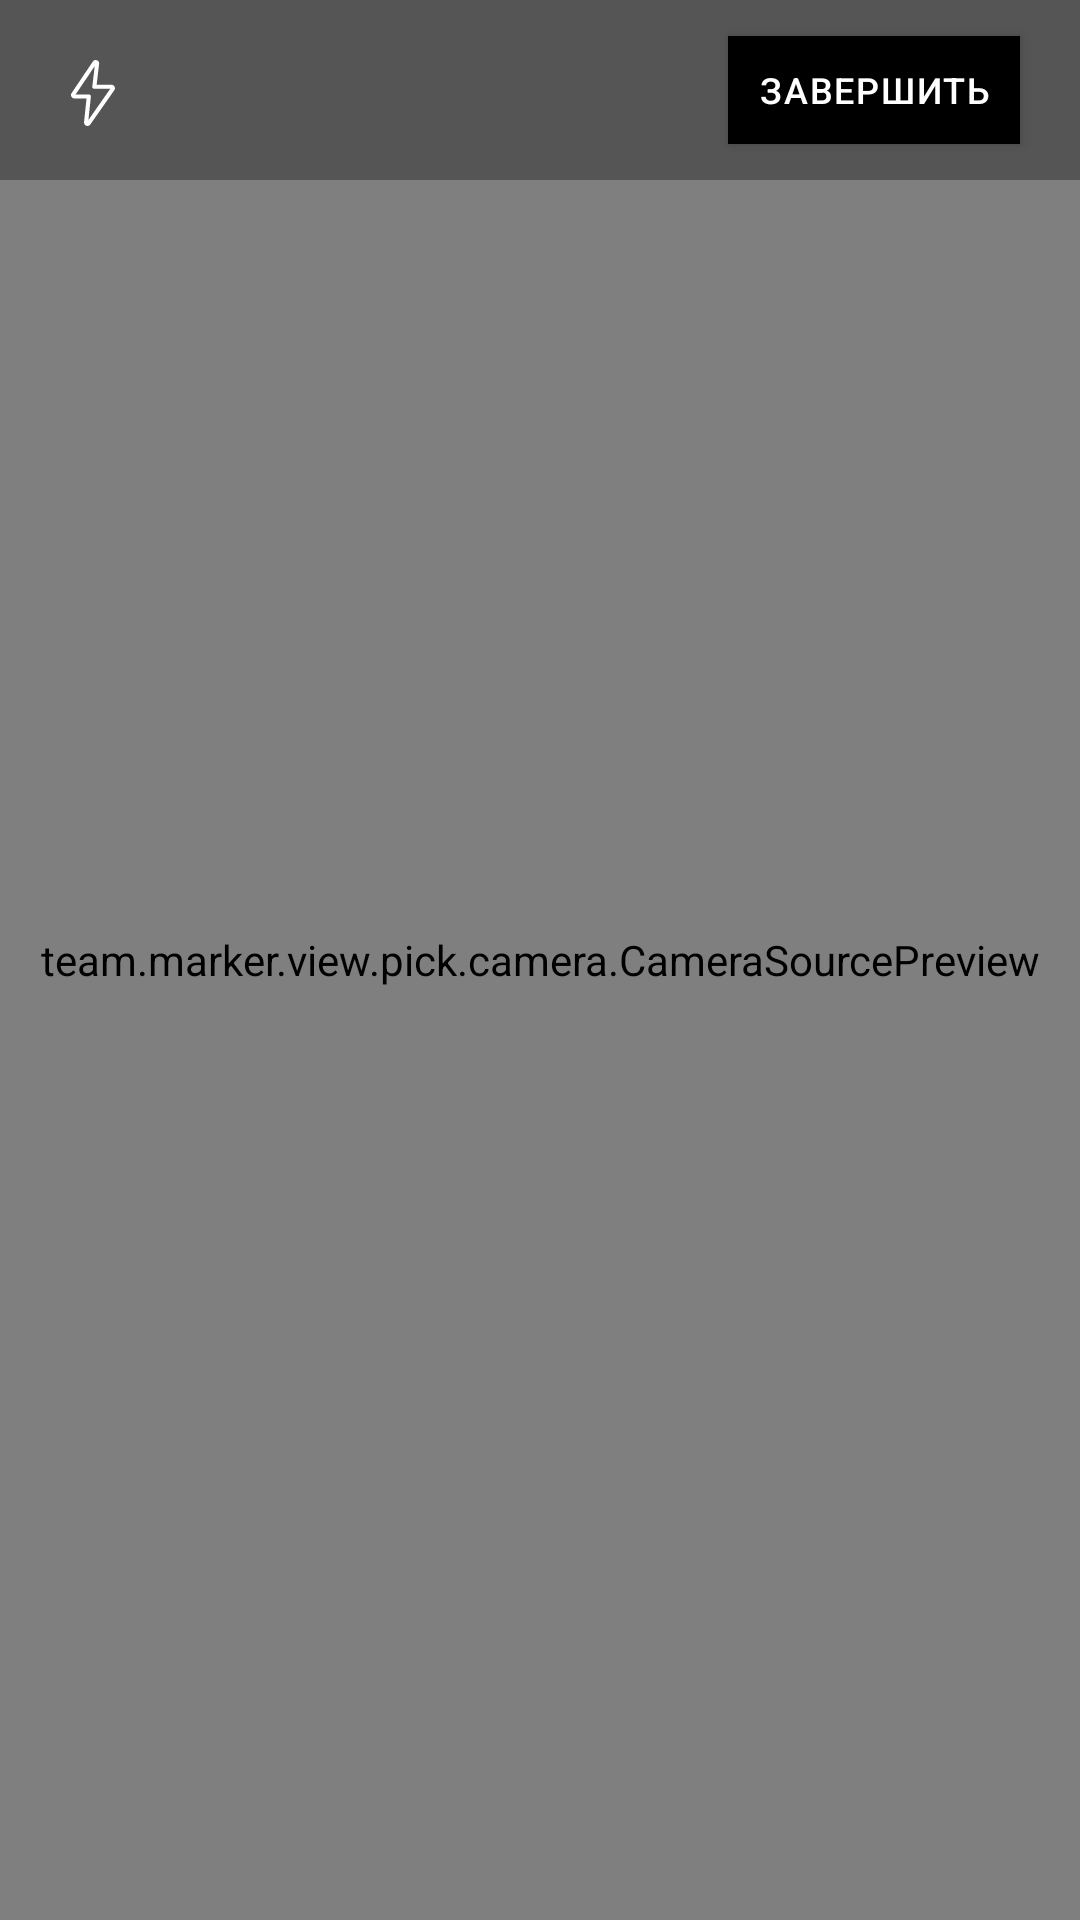

Screen size 1080 x 1920. Icon name, then its box in pixels as {"x1": x1, "y1": y1, "x2": x2, "y2": y2}:
Вспышка: {"x1": 71, "y1": 60, "x2": 115, "y2": 126}
